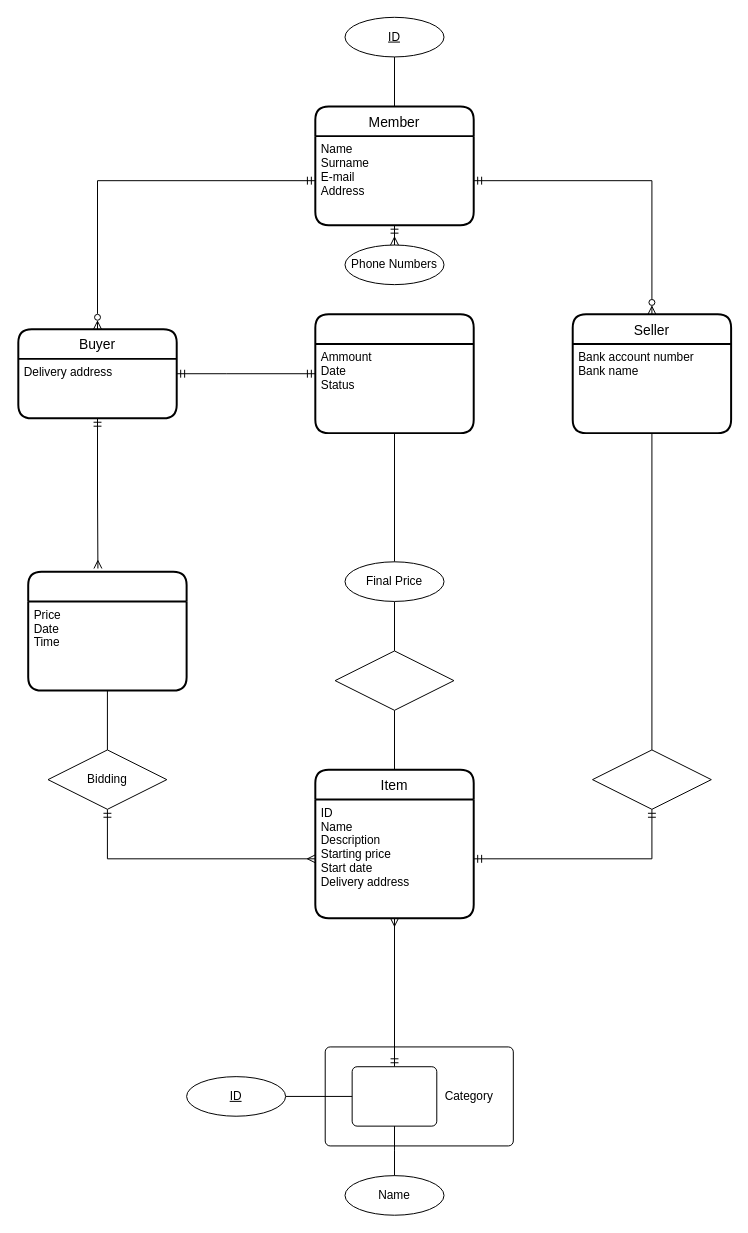
Image size: 748x1233. Some labels were removed from this diagram. The box of each missing label's shape, as (x1, y1, x2, y2) in pixels:
Bid: (27, 570, 187, 691)
End of bidding: (334, 650, 454, 710)
Offering: (592, 749, 711, 809)
SubCategory: (351, 1066, 437, 1126)
Transaction: (314, 313, 474, 434)
